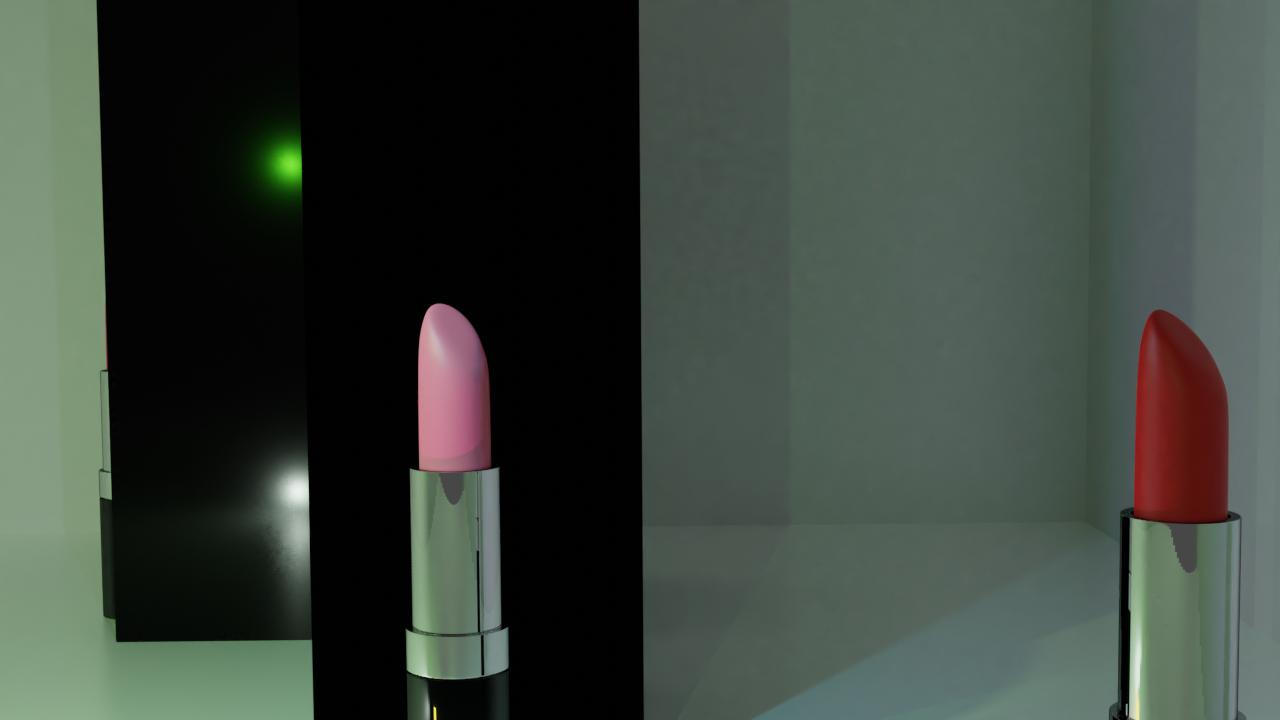CLASSIFIER_NAME: (1102, 300, 1250, 720), (403, 297, 514, 720)
